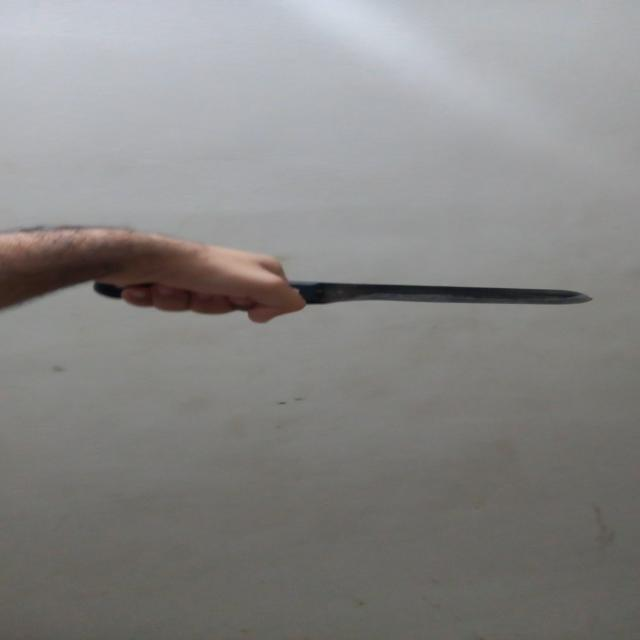Knife: (86, 275, 610, 325)
